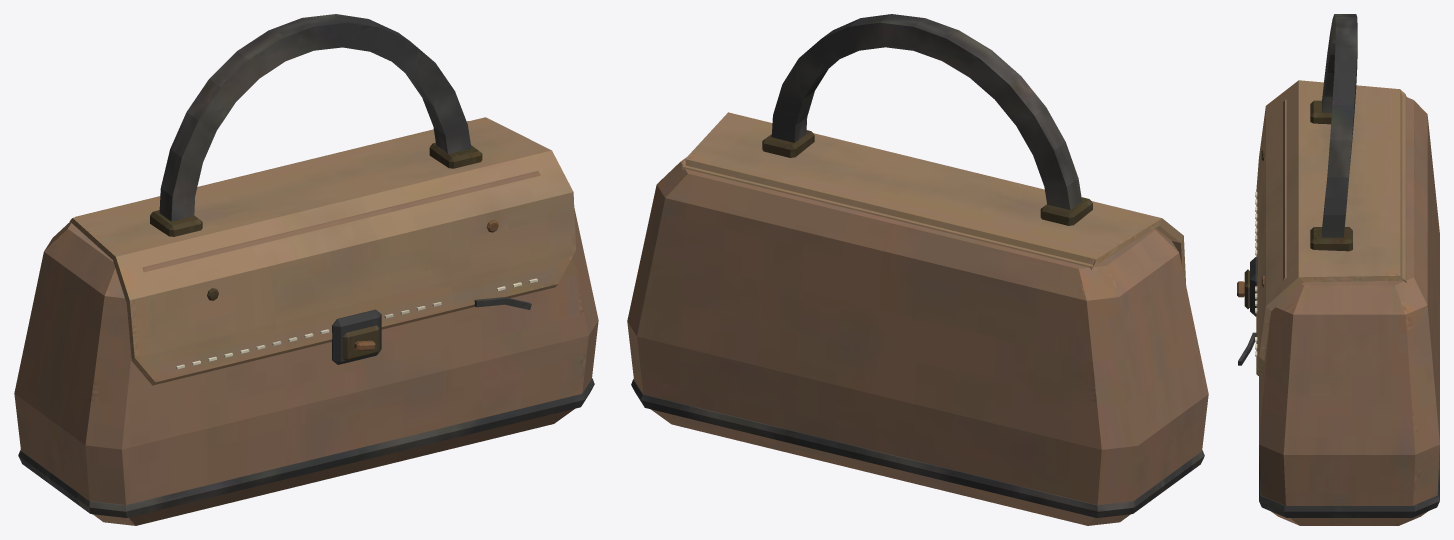
The model's file is D13_handbag_v1.glb.
3 renders of one model, left to right at view 1: azimuth 30°, elevation 25°; view 2: azimuth 150°, elevation 25°; view 3: azimuth 270°, elevation 25°, orthographic. The views are drawn at different scales.
Visible parts, largest first — view 1: Satchel body; view 2: Satchel body; view 3: Satchel body.
Boxes of the visible parts, left/top/right/bottom form: Satchel body: left=14, top=14, right=598, bottom=525; Satchel body: left=627, top=14, right=1208, bottom=525; Satchel body: left=1237, top=14, right=1439, bottom=525.
Bounding box in the file's own units: 0.4 × 0.317 × 0.148.
Materials: 6 (6 with a texture image).
